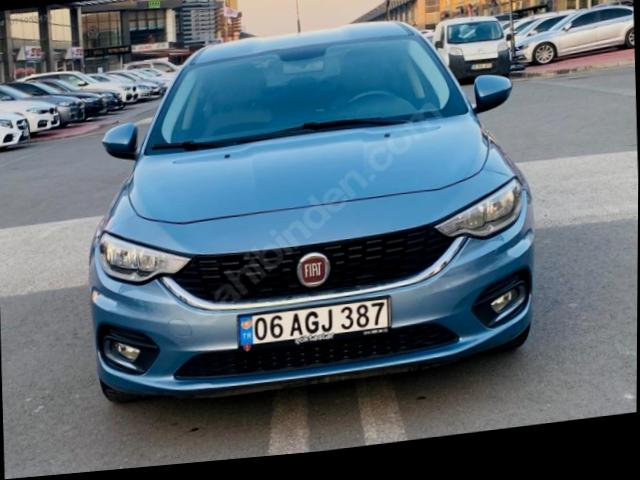plaka: (239, 299, 390, 349)
